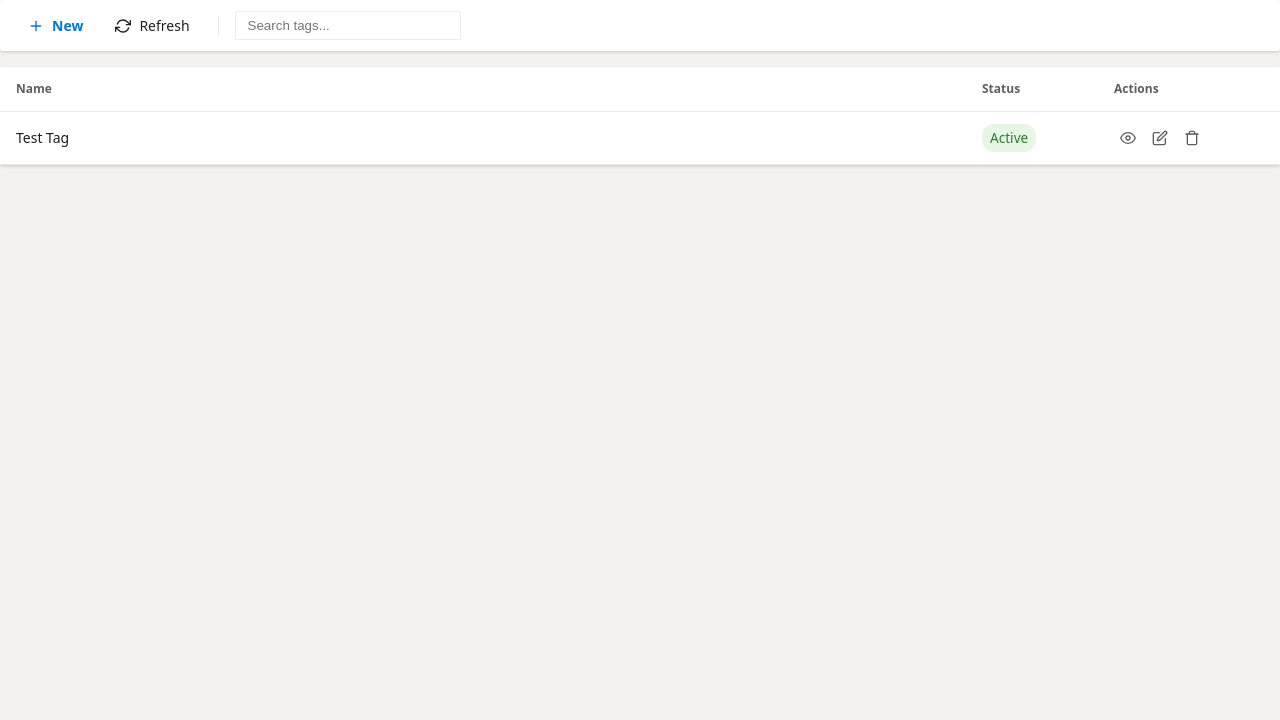
TagsPage › opens view details when row is clicked
Click the text "Test Tag": coordinates (483, 138) [0,112,966,164]
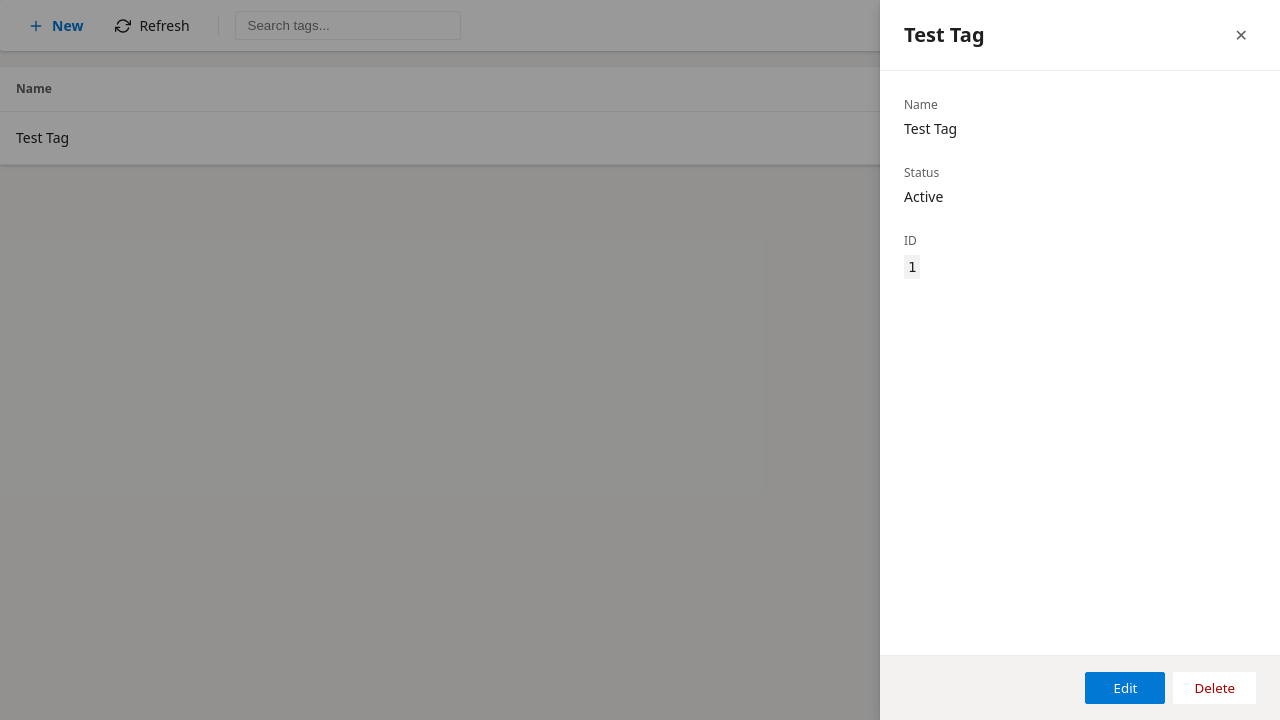
Check: the heading "Test Tag" is shown, box [904,25,984,45]
